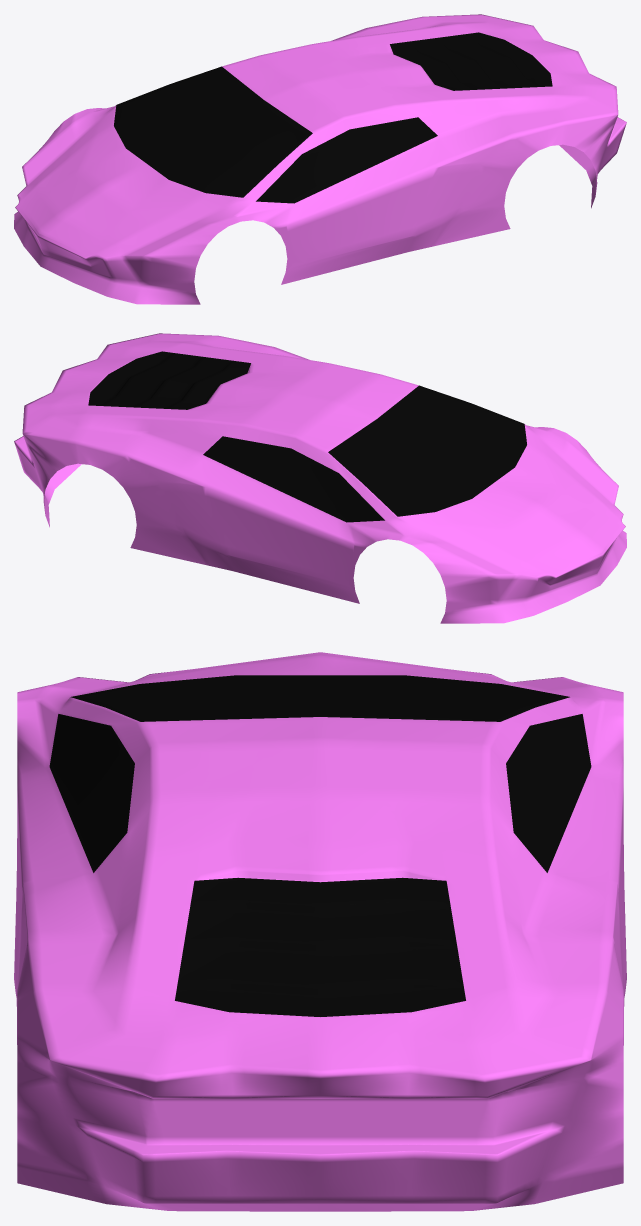
Rendered from Car-Princess-Body.FBX.
The picture shows the model from 3 angles, top to bottom: view 1: azimuth 30°, elevation 25°; view 2: azimuth 150°, elevation 25°; view 3: azimuth 270°, elevation 25°; orthographic projection. The views are drawn at different scales.
Parts seen in each view (by area): view 1: Car-Princess-Body; view 2: Car-Princess-Body; view 3: Car-Princess-Body.
Part boxes in pixels (box(x1,y1,x2,y2)): Car-Princess-Body: box(14, 14, 626, 304); Car-Princess-Body: box(14, 333, 626, 623); Car-Princess-Body: box(14, 652, 626, 1211).
Bounding box in the file's own units: 570 × 121 × 282.
